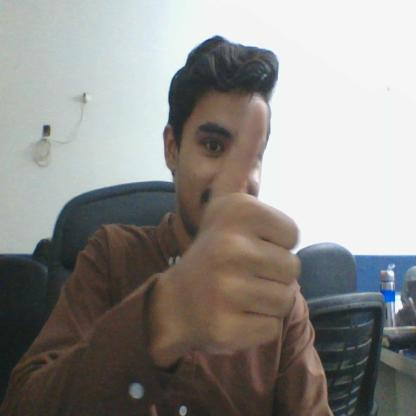thumbs-up: (187, 98, 306, 359)
